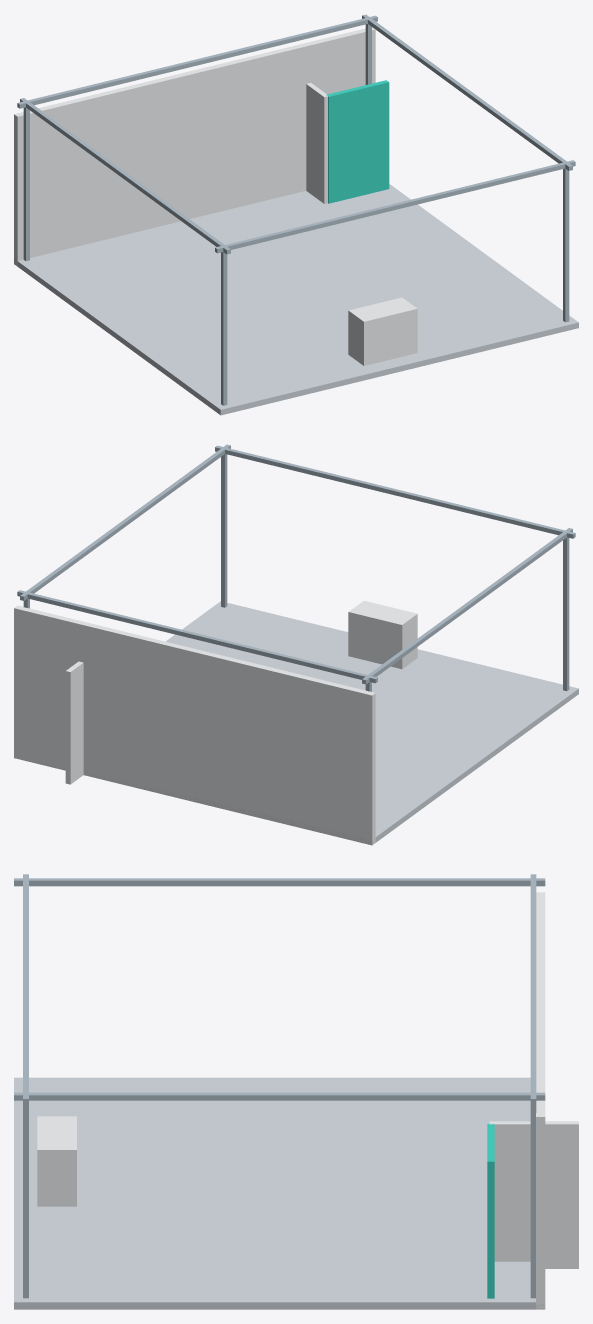
The picture shows the model from 3 angles, top to bottom: view 1: azimuth 30°, elevation 25°; view 2: azimuth 150°, elevation 25°; view 3: azimuth 270°, elevation 25°; orthographic projection. The views are drawn at different scales.
Visible parts, largest first — view 1: Exhibition Booth Concept; view 2: Exhibition Booth Concept; view 3: Exhibition Booth Concept.
Boxes of the visible parts, x1,y1,x2,y2 form: Exhibition Booth Concept: [14, 14, 578, 415]; Exhibition Booth Concept: [14, 444, 578, 845]; Exhibition Booth Concept: [14, 874, 578, 1309].
Size of the model in its own units: 8 by 3.49 by 8.51.
